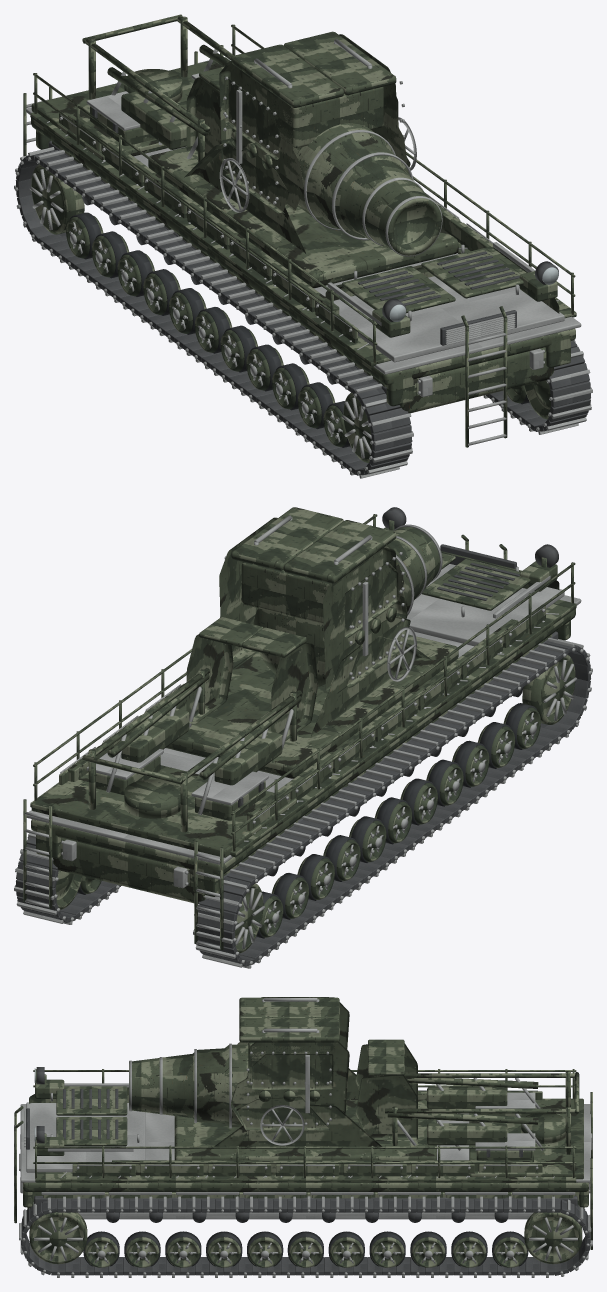
Rendered from pgf-digital.glb.
The picture shows the model from 3 angles, top to bottom: view 1: azimuth 30°, elevation 25°; view 2: azimuth 150°, elevation 25°; view 3: azimuth 270°, elevation 25°; orthographic projection. The views are drawn at different scales.
Parts seen in each view (by area): view 1: cradle-graphite-painted-steel-batch, running-gear-panel-shadow-batch, chassis-graphite-painted-steel-batch, platform-graphite-painted-steel-batch, running-gear-cast-edge-steel-batch, carriage-graphite-painted-steel-batch, barrel-tube-exterior-batch, running-gear-graphite-painted-steel-batch, engine-cast-edge-steel-batch, mechanisms-graphite-painted-steel-batch, engine-graphite-painted-steel-batch, running-gear-dark-running-bands-batch (+6 smaller); view 2: platform-graphite-painted-steel-batch, cradle-graphite-painted-steel-batch, running-gear-panel-shadow-batch, chassis-graphite-painted-steel-batch, mechanisms-graphite-painted-steel-batch, carriage-graphite-painted-steel-batch, running-gear-cast-edge-steel-batch, running-gear-graphite-painted-steel-batch, running-gear-dark-running-bands-batch, chassis-cast-edge-steel-batch, engine-cast-edge-steel-batch, barrel-tube-exterior-batch (+6 smaller); view 3: running-gear-panel-shadow-batch, chassis-graphite-painted-steel-batch, mechanisms-graphite-painted-steel-batch, platform-graphite-painted-steel-batch, cradle-graphite-painted-steel-batch, running-gear-graphite-painted-steel-batch, carriage-graphite-painted-steel-batch, chassis-cast-edge-steel-batch, barrel-tube-exterior-batch, running-gear-cast-edge-steel-batch, engine-graphite-painted-steel-batch, engine-cast-edge-steel-batch (+7 smaller).
Part boxes in pixels (x1,y1,x2,y2): cradle-graphite-painted-steel-batch: (219,31,410,213); running-gear-panel-shadow-batch: (15,150,590,475); chassis-graphite-painted-steel-batch: (31,112,575,413); platform-graphite-painted-steel-batch: (23,24,576,366); running-gear-cast-edge-steel-batch: (14,147,592,478); carriage-graphite-painted-steel-batch: (148,143,458,288); barrel-tube-exterior-batch: (293,123,441,255); running-gear-graphite-painted-steel-batch: (31,164,550,462); engine-cast-edge-steel-batch: (327,242,564,445); mechanisms-graphite-painted-steel-batch: (82,14,233,162); engine-graphite-painted-steel-batch: (325,246,559,447); running-gear-dark-running-bands-batch: (70,212,529,447); platform-graphite-painted-steel-batch: (23,514,576,950); cradle-graphite-painted-steel-batch: (219,507,410,693); running-gear-panel-shadow-batch: (16,641,590,966); chassis-graphite-painted-steel-batch: (31,604,575,904); mechanisms-graphite-painted-steel-batch: (82,617,318,832); carriage-graphite-painted-steel-batch: (166,634,458,778); running-gear-cast-edge-steel-batch: (14,637,592,968); running-gear-graphite-painted-steel-batch: (56,655,575,953); running-gear-dark-running-bands-batch: (77,703,537,938); chassis-cast-edge-steel-batch: (26,595,581,888); engine-cast-edge-steel-batch: (406,564,564,646); barrel-tube-exterior-batch: (253,526,439,686); running-gear-panel-shadow-batch: (21,1198,590,1275); chassis-graphite-painted-steel-batch: (23,1091,588,1208); mechanisms-graphite-painted-steel-batch: (355,1039,579,1154); platform-graphite-painted-steel-batch: (33,1069,592,1249); cradle-graphite-painted-steel-batch: (231,997,349,1130); running-gear-graphite-painted-steel-batch: (29,1212,582,1267); carriage-graphite-painted-steel-batch: (174,1068,436,1160); chassis-cast-edge-steel-batch: (20,1090,592,1219); barrel-tube-exterior-batch: (129,1044,248,1127); running-gear-cast-edge-steel-batch: (19,1153,592,1277); engine-graphite-painted-steel-batch: (14,1074,128,1223); engine-cast-edge-steel-batch: (14,1083,145,1220).
Bounding box in the file's own units: 3.69 × 4.49 × 10.6.
Materials: 6 (6 with a texture image).
